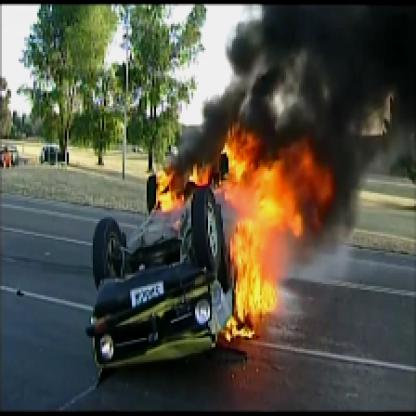Fire: (152, 93, 325, 343)
